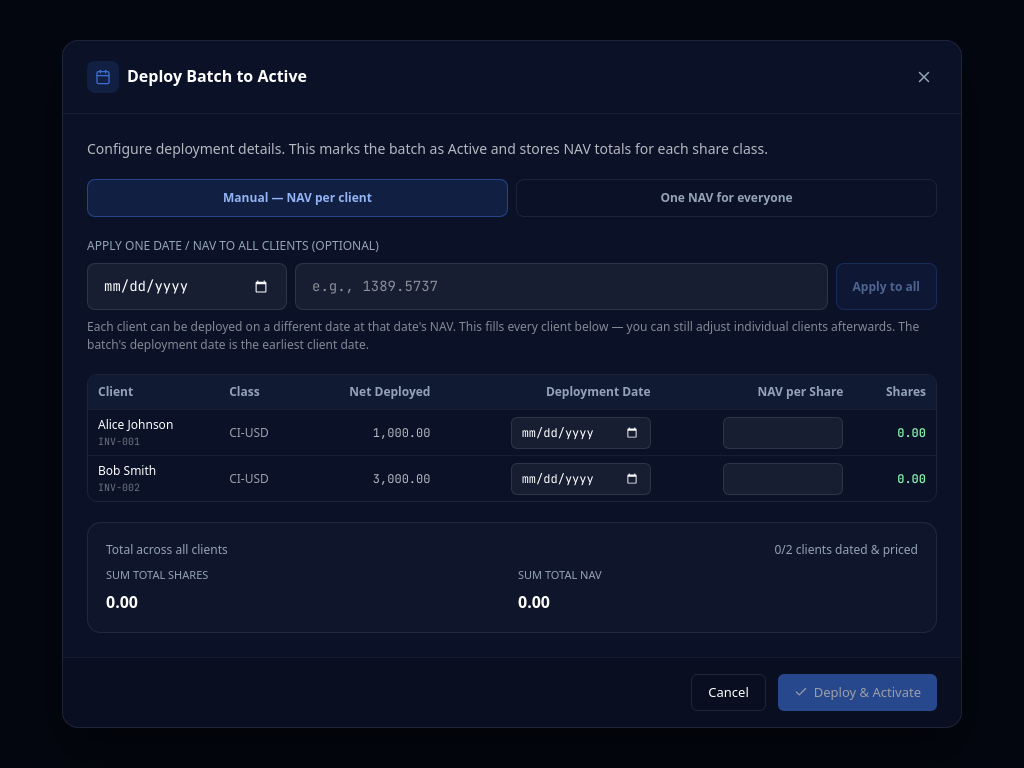
Test case: DeploymentDateModal — manual per-client date + NAV (Deploy stage) › 'Apply to all' fills every client's date and NAV
The width and height of the screenshot is (1024, 768).
Type "2026-10-05" into the date field named "Deployment date for all clients".
click(187, 286); type("2026-10-05")  # box top-left (87, 263), bottom-right (287, 310)
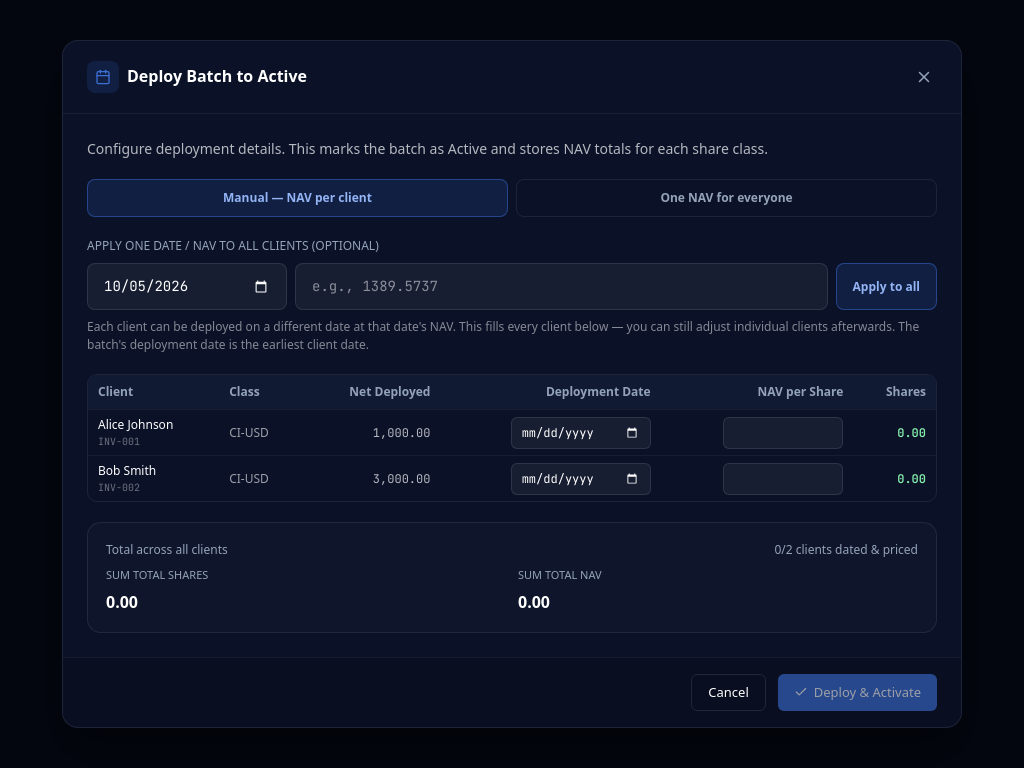
Type "250" into the number field with placeholder "e.g., 1389.5737".
click(561, 286); type("250")  # box top-left (295, 263), bottom-right (828, 310)
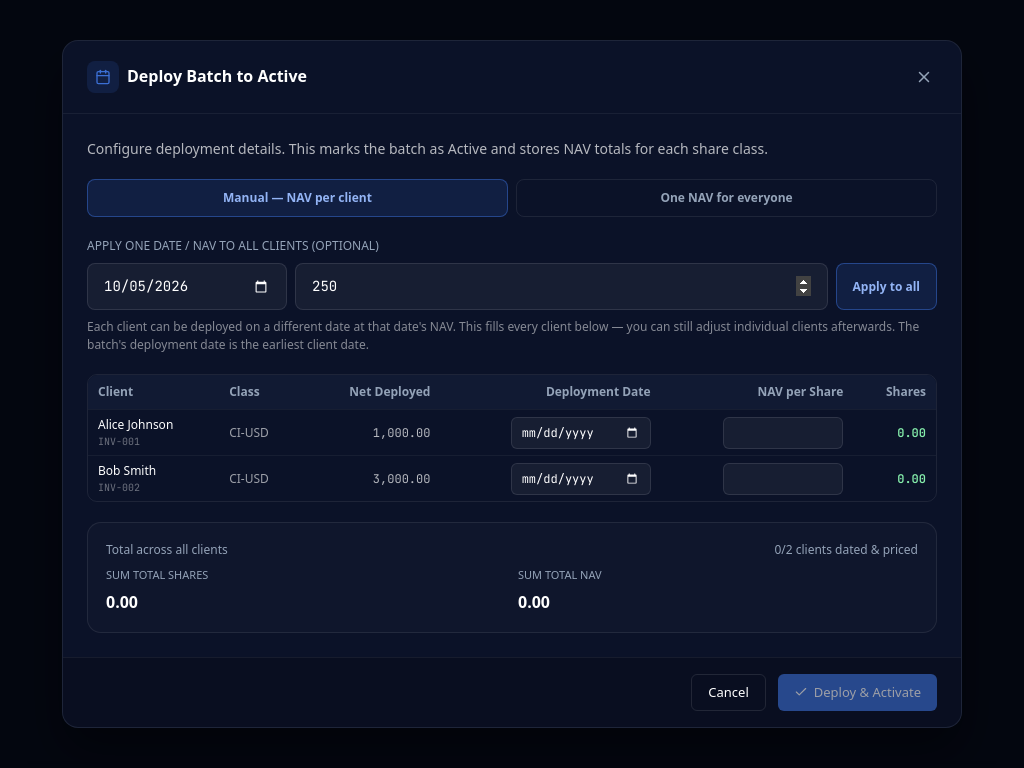
Click the button "Apply to all".
click(886, 286)  # box top-left (836, 263), bottom-right (937, 310)
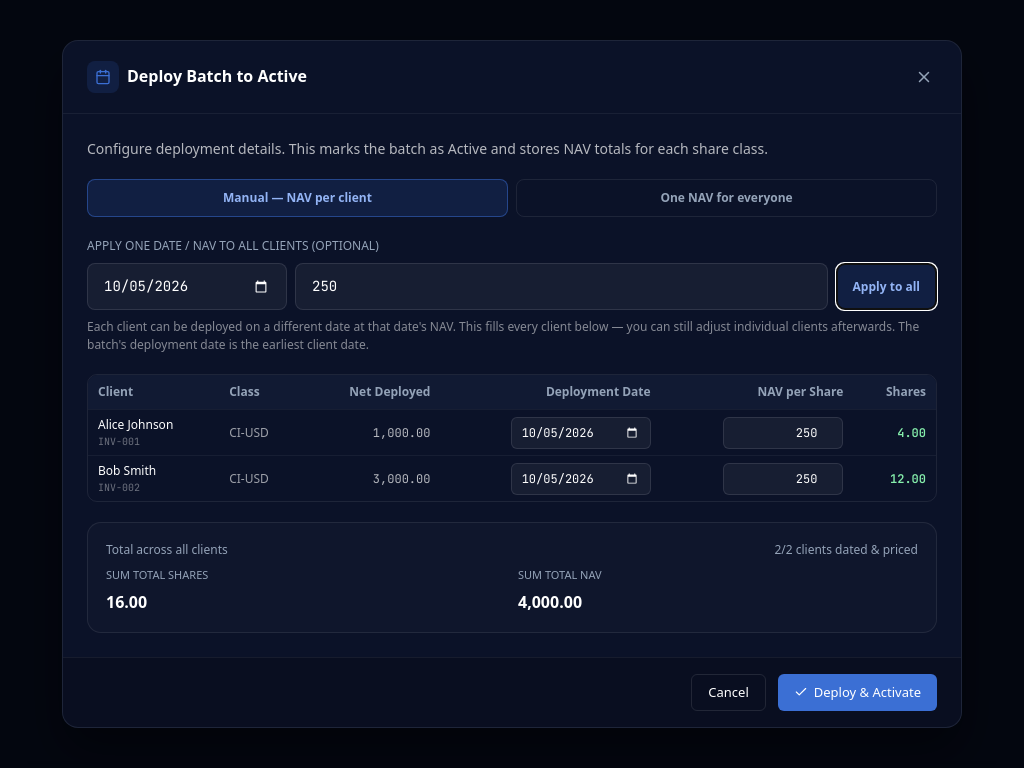
Check: the number field named "NAV per share for Alice Johnson" holds "250", box top-left (723, 416), bottom-right (843, 448)
Check: the date field named "Deployment date for Alice Johnson" holds "2026-10-05", box top-left (511, 416), bottom-right (651, 448)
Check: the number field named "NAV per share for Bob Smith" holds "250", box top-left (723, 462), bottom-right (843, 494)
